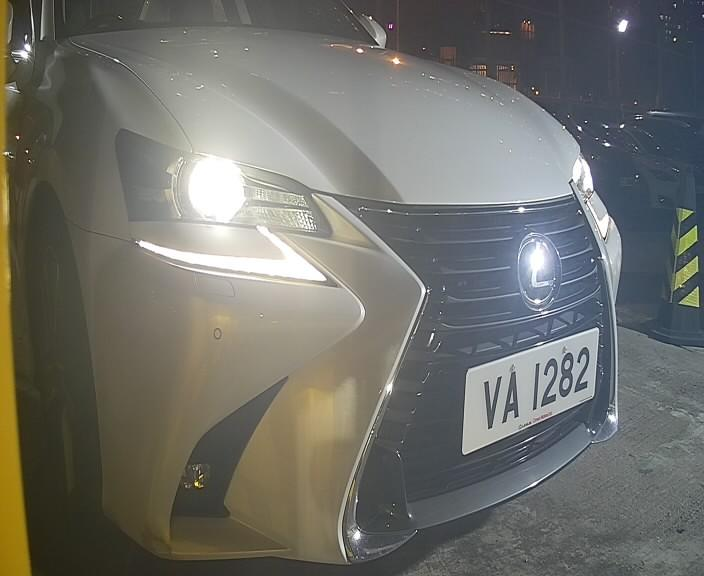Car: (23, 6, 667, 561)
License Plate: (463, 325, 595, 445)
